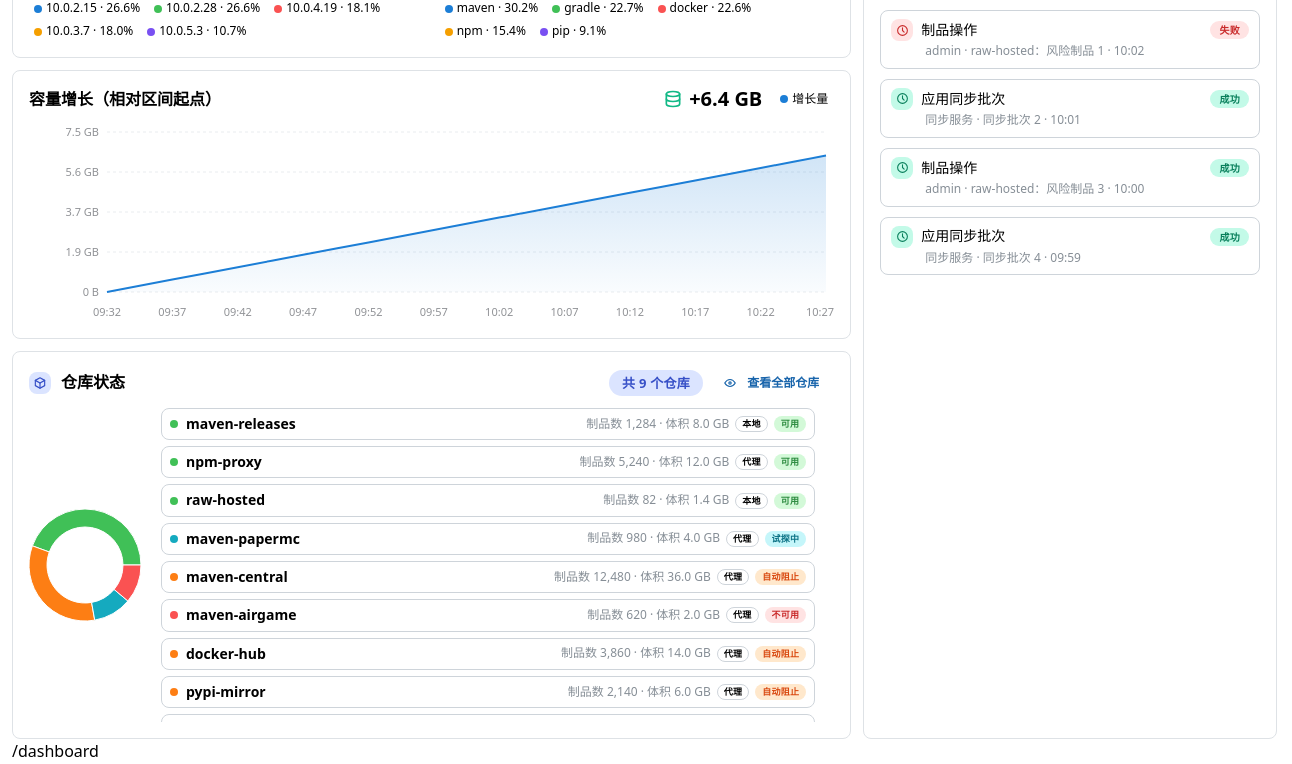
Test case: 业务仪表盘（真实读模型） › 仓库状态明细限高滚动，超出可视行数时给出查看全部出口
(page scrolled)
Click the button "查看全部仓库" at point(774, 383), box [713,368,834,398]
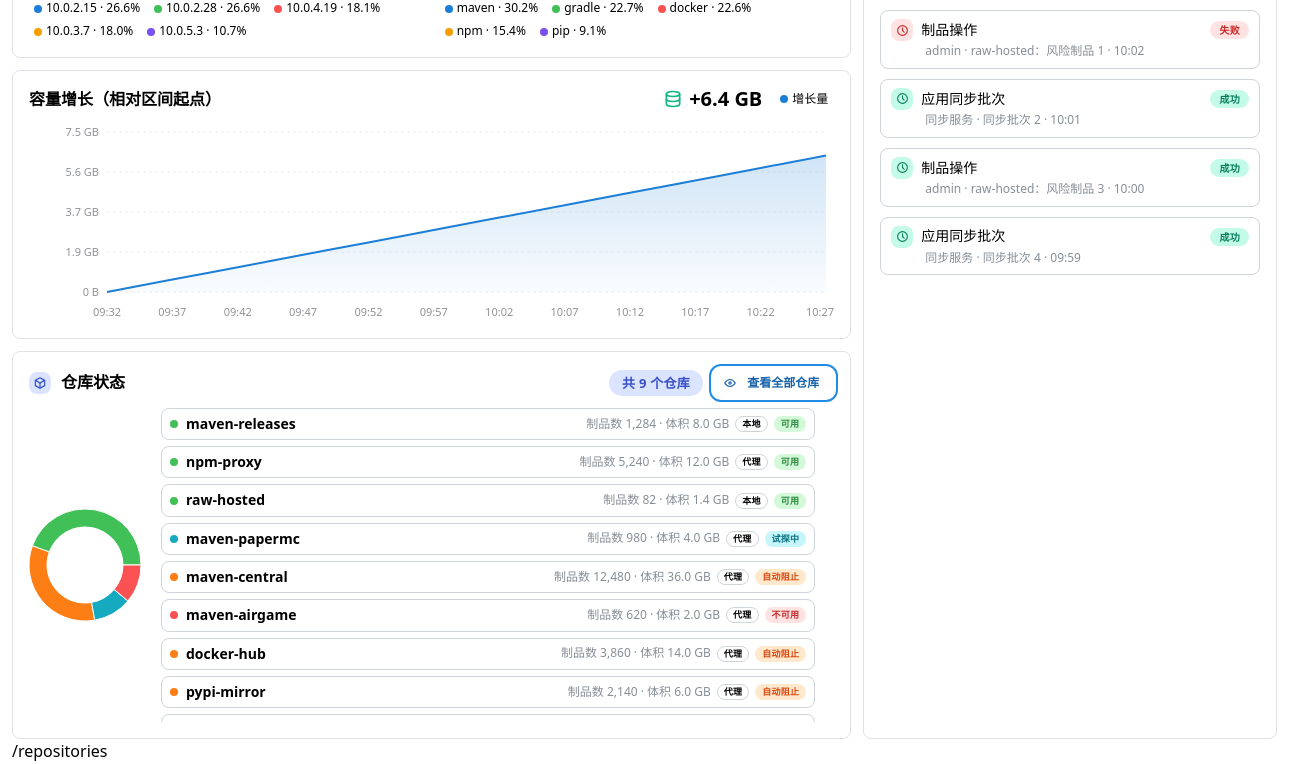
expect the text with test id "location-probe" reads "/repositories": met, box [12,740,108,762]
